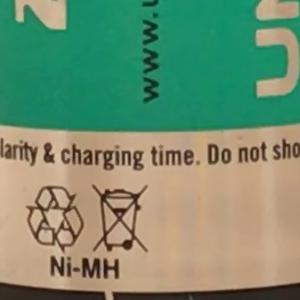NI-MH: (40, 248, 129, 286)
